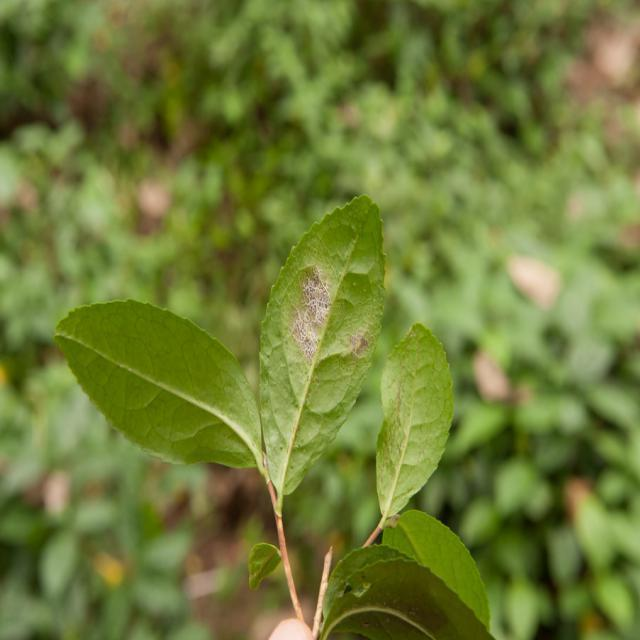Tea exobasidium blight: (279, 251, 340, 354), (348, 321, 377, 376)
